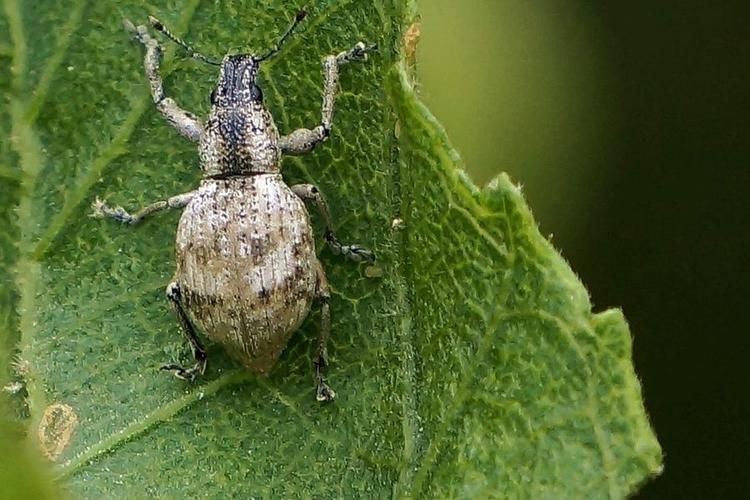Curculionidae: (87, 8, 377, 401)
